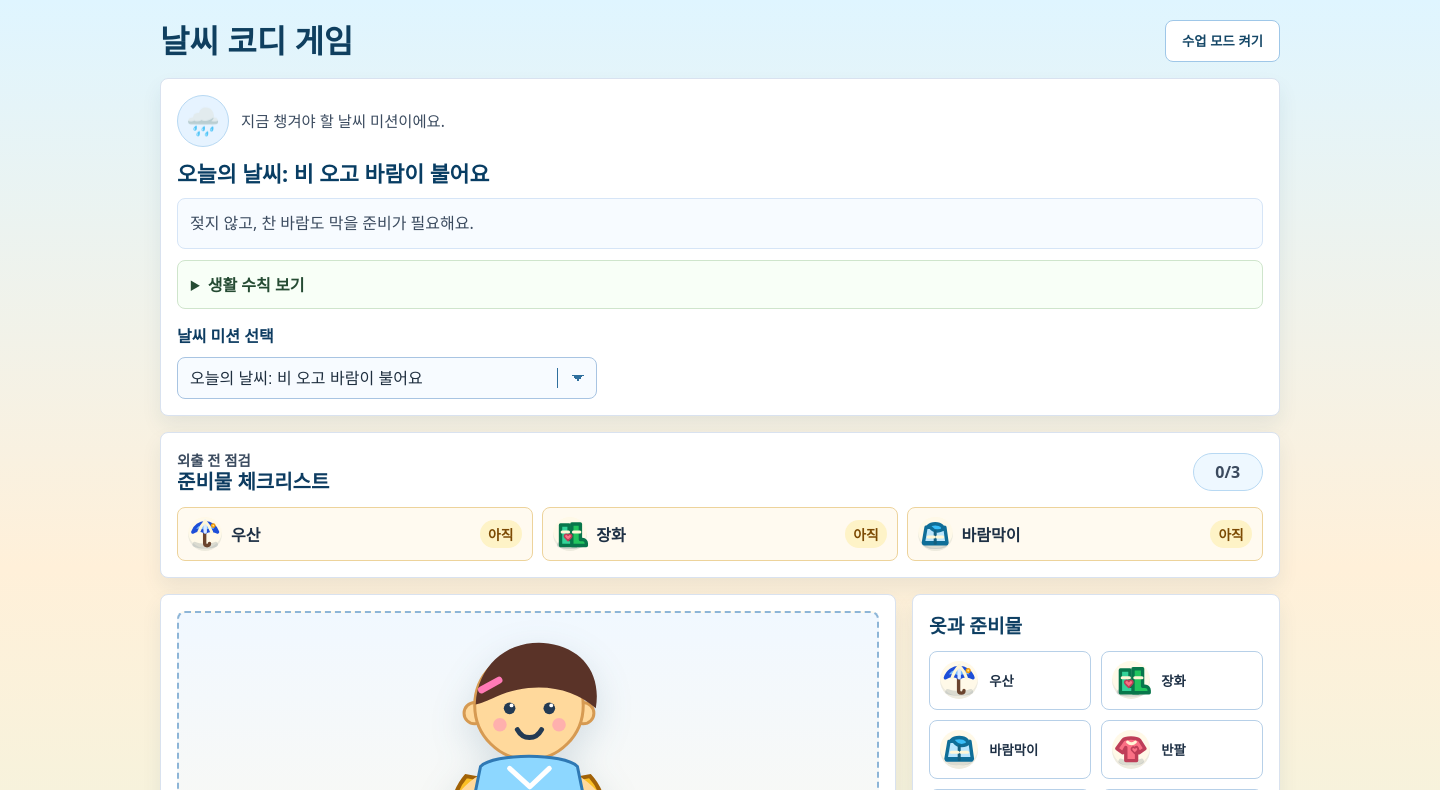
weather outfit planner › shows classroom lesson flow and discussion cards only in classroom mode
This screenshot has width=1440, height=790.
Expected: the element "외출 준비 수업 흐름" is not shown
Click the button "수업 모드 켜기".
click(1222, 41)  # box x1=1165 y1=20 x2=1280 y2=62
(page scrolled)
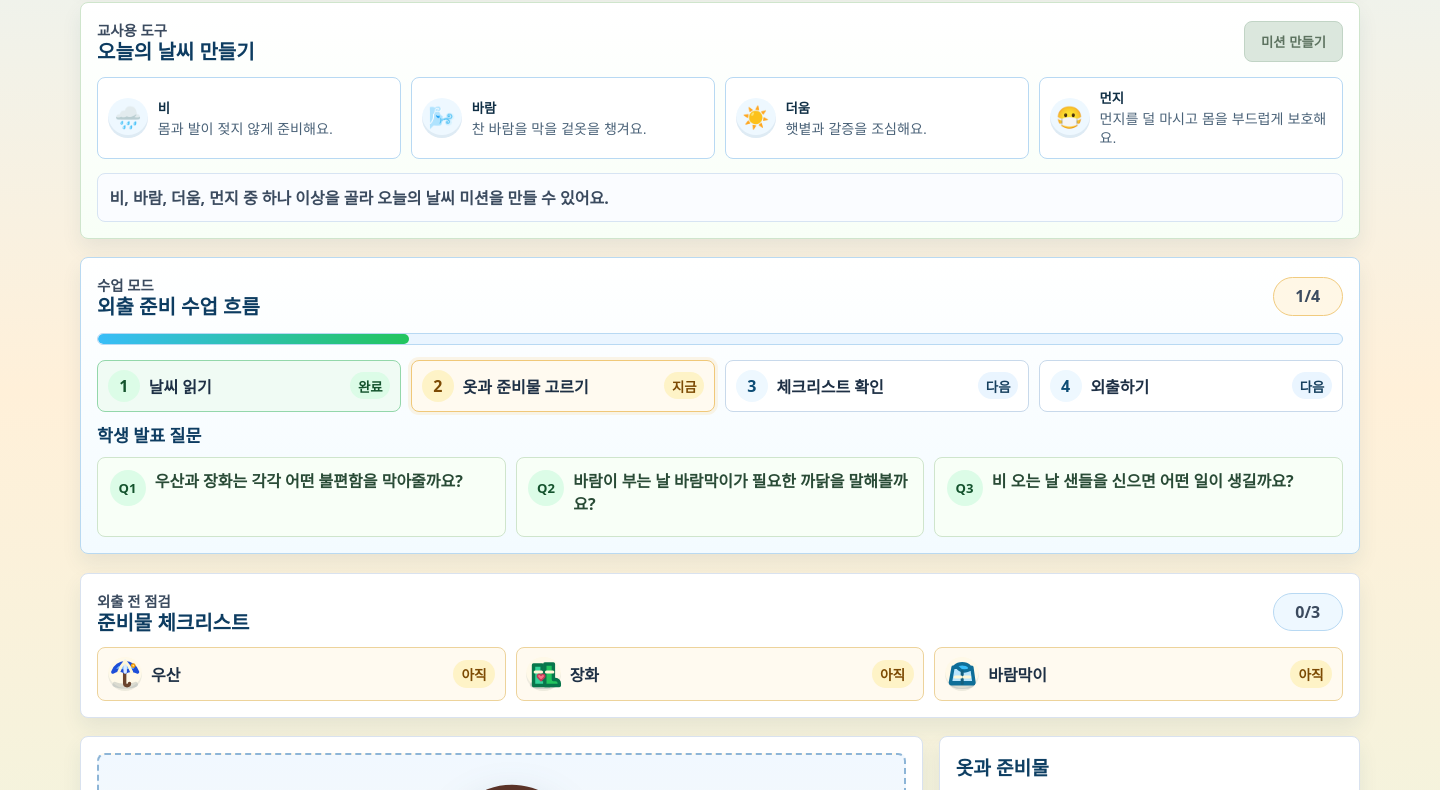
Now the element "외출 준비 수업 흐름" shows "1/4", box x1=80 y1=257 x2=1360 y2=554
Now the list item "날씨 읽기" shows "완료", box x1=358 y1=378 x2=383 y2=396
Now the list item "옷과 준비물 고르기" shows "지금", box x1=672 y1=378 x2=697 y2=396
